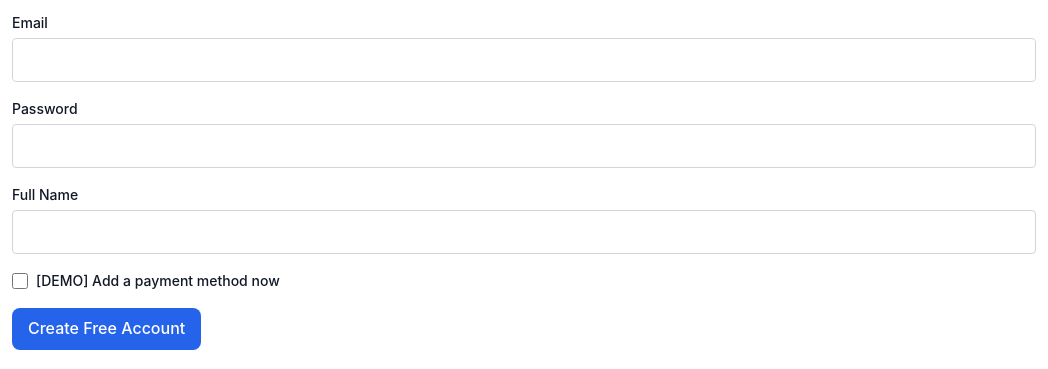
<RegisterForm /> › when the demo payment checkbox is checked › should reveal a clearly labeled demo payment button
Click the checkbox labelled "[DEMO] Add a payment method now": (20,281) [12,273,28,289]
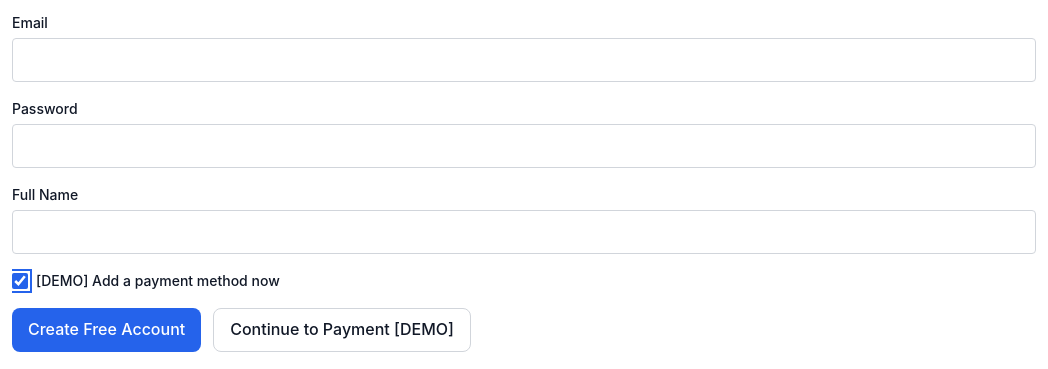
Expected: the button "Continue to Payment [DEMO]" is shown, [213,308,471,352]
